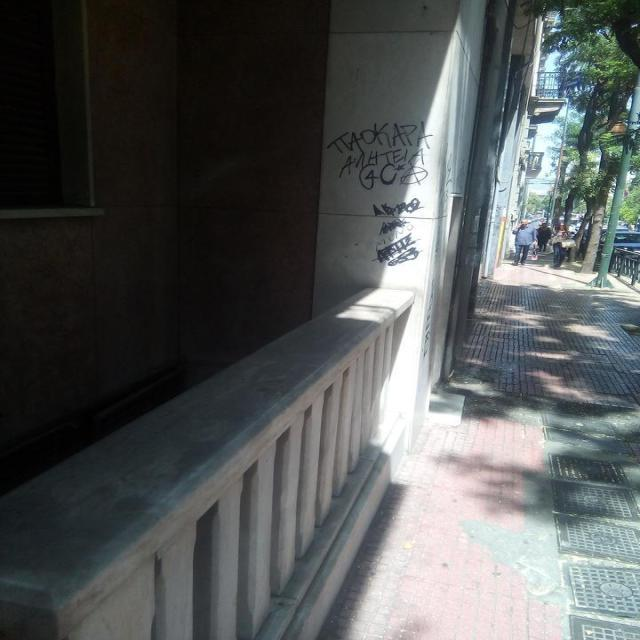nonspitting: (327, 122, 433, 190), (374, 197, 426, 266)
